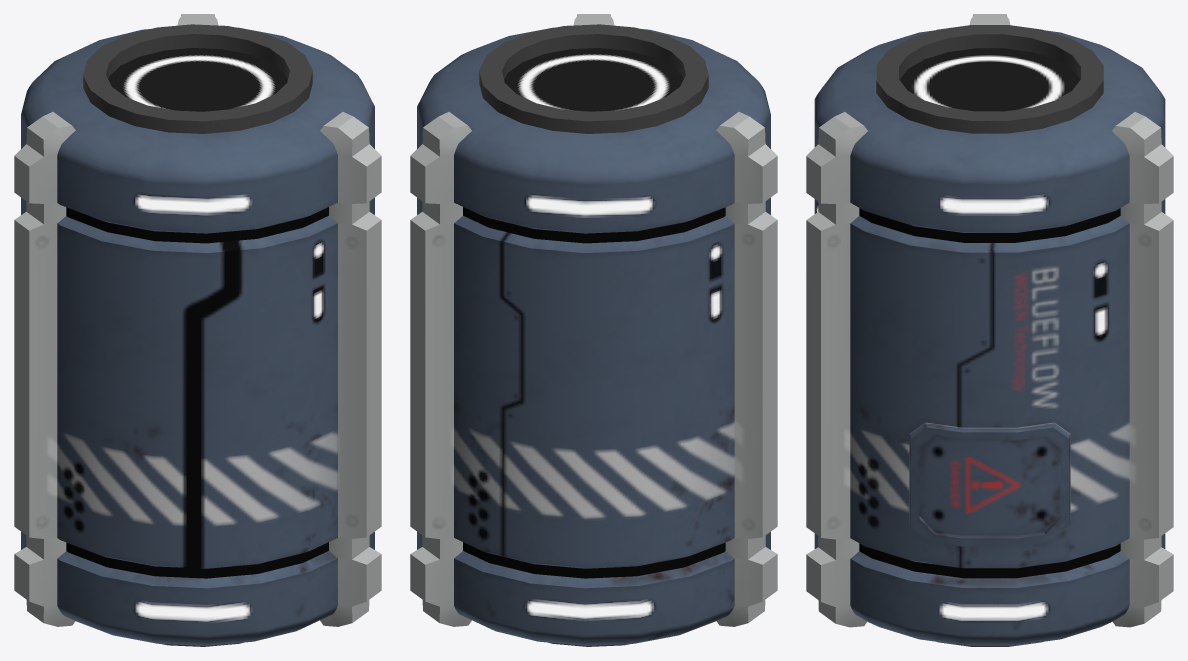
File: Pfb_Soda_WarmKeeper__2.fbx
The picture shows the model from 3 angles, left to right: view 1: azimuth 30°, elevation 25°; view 2: azimuth 150°, elevation 25°; view 3: azimuth 270°, elevation 25°; orthographic projection.
Visible parts, largest first — view 1: WarmKeeper_Blue 1; view 2: WarmKeeper_Blue 1; view 3: WarmKeeper_Blue 1.
Part boxes in pixels (x1,y1,x2,y2): WarmKeeper_Blue 1: [14, 14, 381, 646]; WarmKeeper_Blue 1: [410, 14, 777, 646]; WarmKeeper_Blue 1: [806, 14, 1173, 646].
Bounding box in the file's own units: 2.18 × 3.27 × 2.07.
Materials: 1 (1 with a texture image).
